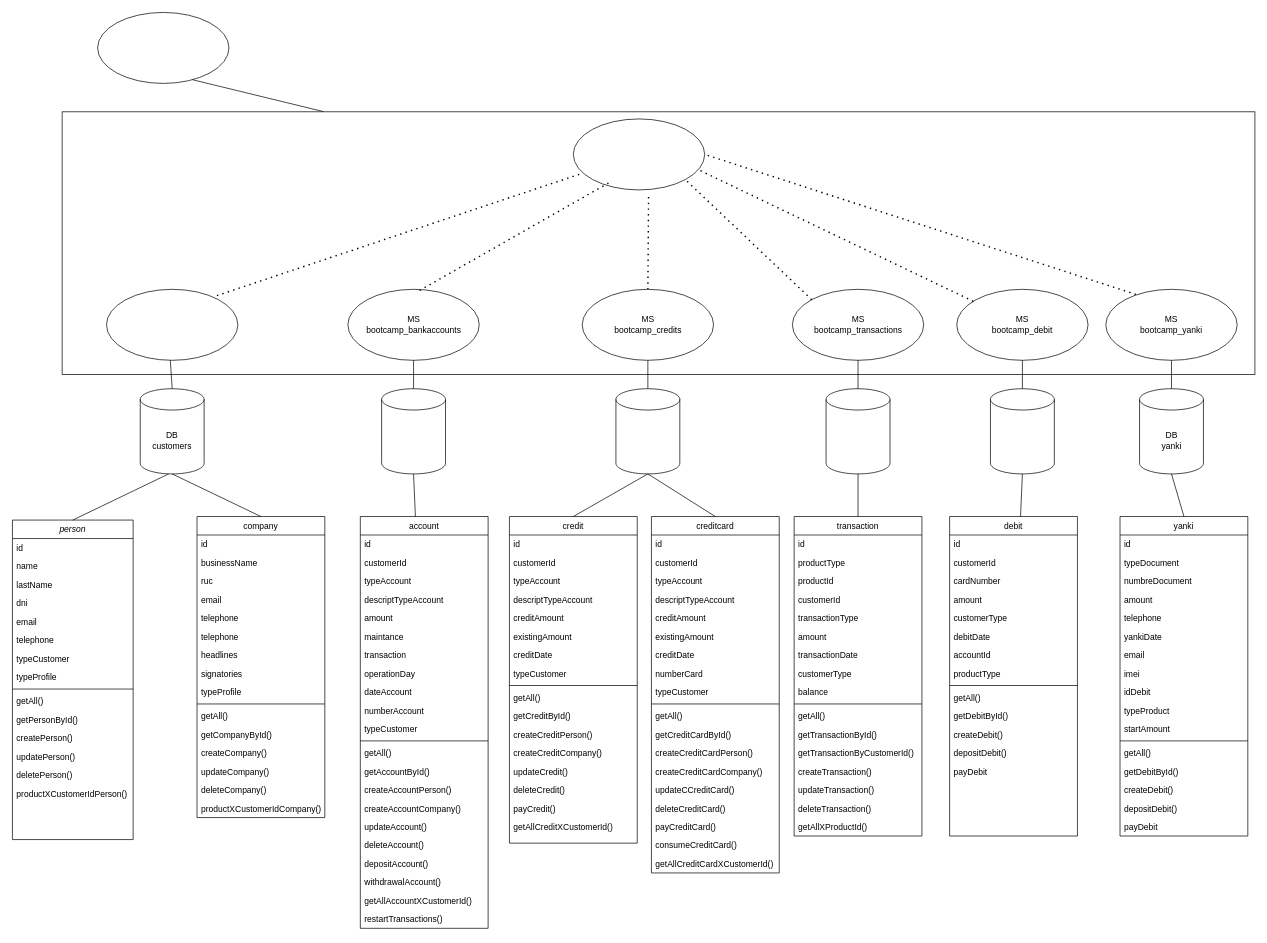
This 1267x943 diagram has some shape labels left out. Each missing label, with the centre of its shape:
"config_server" belongs at point 163,47.
"DB accounts" belongs at point 413,431.
"DB credits" belongs at point 647,431.
"DB Debit" belongs at point 1022,431.
"DB transactions" belongs at point 857,431.
"MS bootcamp_customers" belongs at point 172,324.
"MS bootcamp_reports" belongs at point 639,154.
